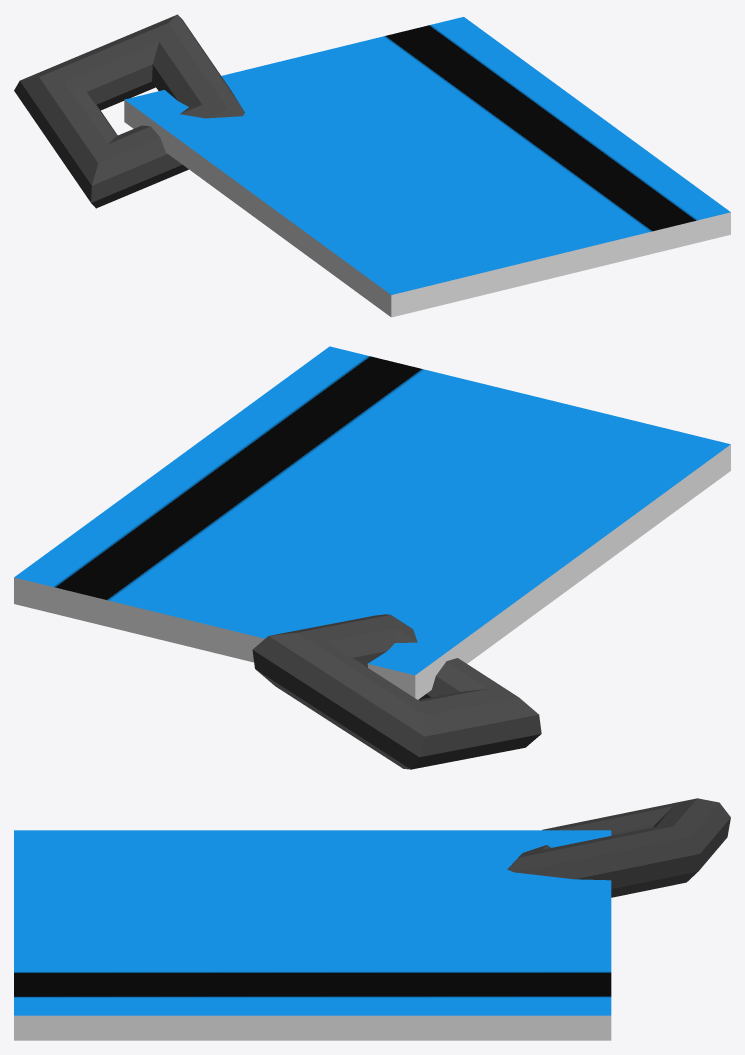
File: Keycard_Blue.fbx
3 renders of one model, top to bottom at view 1: azimuth 30°, elevation 25°; view 2: azimuth 150°, elevation 25°; view 3: azimuth 270°, elevation 25°, orthographic. The views are drawn at different scales.
Visible parts, largest first — view 1: KeyCard_Blue; view 2: KeyCard_Blue; view 3: KeyCard_Blue.
Boxes of the visible parts, x1,y1,x2,y2 form: KeyCard_Blue: (14, 14, 730, 317); KeyCard_Blue: (14, 346, 730, 769); KeyCard_Blue: (14, 798, 730, 1040).
Bounding box in the file's own units: 2.15 × 0.5527 × 2.91.
Materials: 1 (1 with a texture image).
